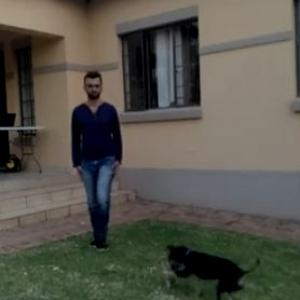follow: (72, 71, 128, 246)
